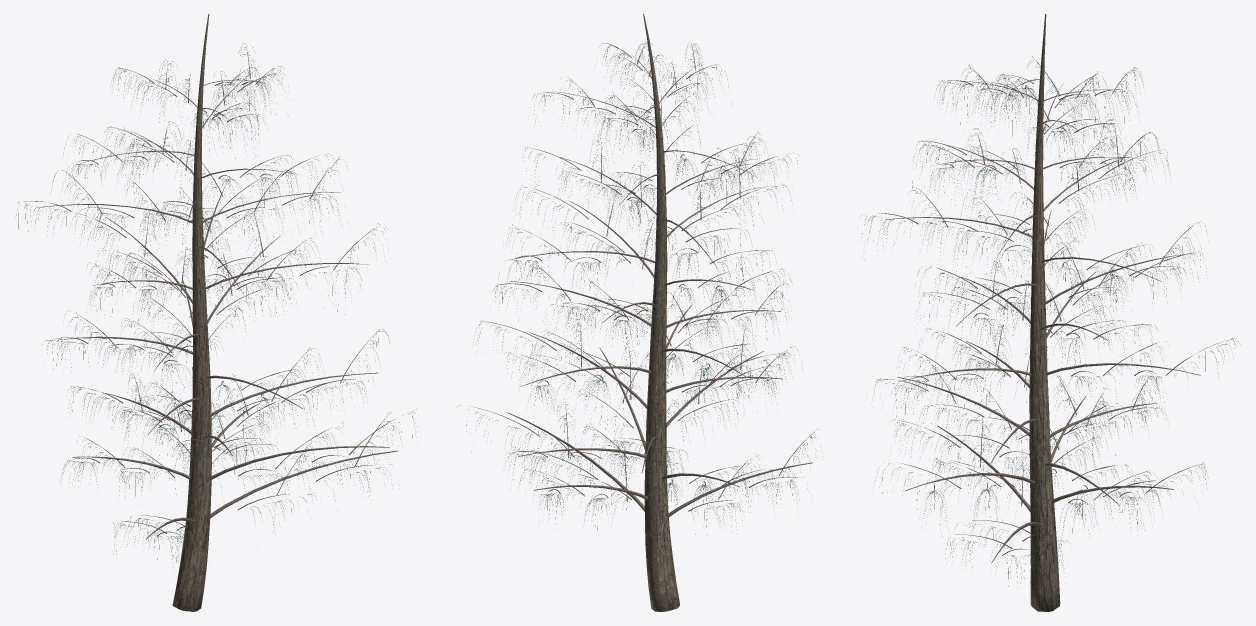
File: casuarina-2.glb
3 renders of one model, left to right at view 1: azimuth 30°, elevation 25°; view 2: azimuth 150°, elevation 25°; view 3: azimuth 270°, elevation 25°, orthographic. The views are drawn at different scales.
Parts seen in each view (by area): view 1: bark, branchlets; view 2: bark, branchlets; view 3: bark, branchlets.
Boxes of the visible parts, <box> form: bark: <box>19,14,402,611</box>; branchlets: <box>15,43,419,567</box>; bark: <box>471,14,814,611</box>; branchlets: <box>457,42,822,534</box>; bark: <box>876,14,1224,611</box>; branchlets: <box>861,56,1238,586</box>.
Size of the model in its own units: 1.32 by 2.11 by 1.23.
Materials: 2 (2 with a texture image).
